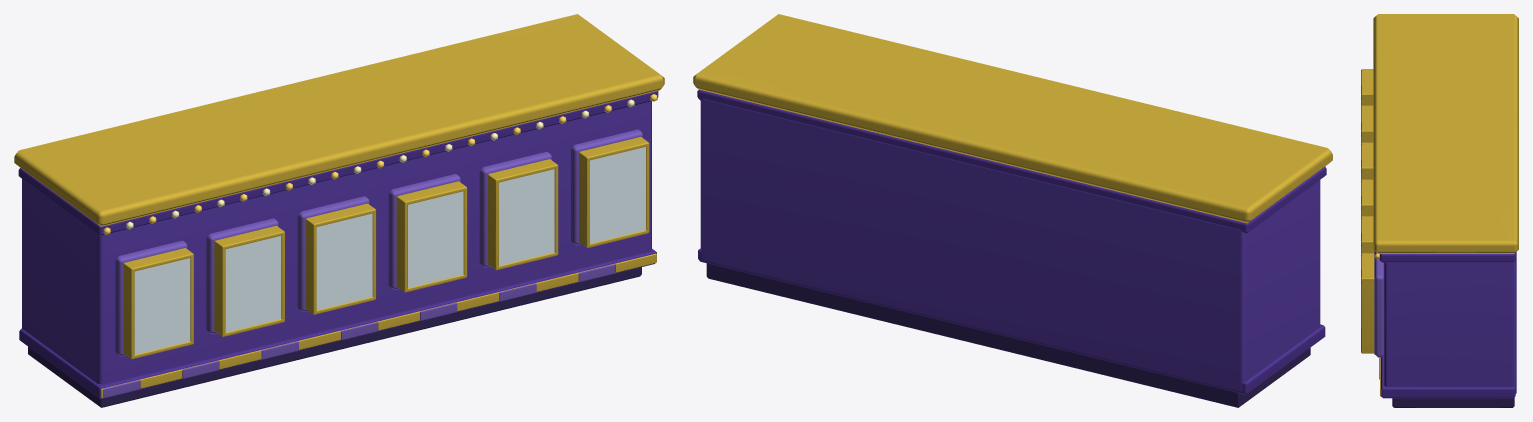
Rendered from furn_counter_prize.glb.
3 renders of one model, left to right at view 1: azimuth 30°, elevation 25°; view 2: azimuth 150°, elevation 25°; view 3: azimuth 270°, elevation 25°, orthographic. The views are drawn at different scales.
Parts seen in each view (by area): view 1: furn_counter_prize_main, furn_counter_prize_clear, furn_counter_prize_glow; view 2: furn_counter_prize_main; view 3: furn_counter_prize_main.
Boxes of the visible parts, x1,y1,x2,y2 form: furn_counter_prize_main: [14, 14, 664, 407]; furn_counter_prize_clear: [134, 147, 645, 354]; furn_counter_prize_glow: [103, 94, 657, 234]; furn_counter_prize_main: [693, 14, 1332, 407]; furn_counter_prize_main: [1361, 14, 1518, 407].
Size of the model in its own units: 2.87 by 1 by 0.832.
